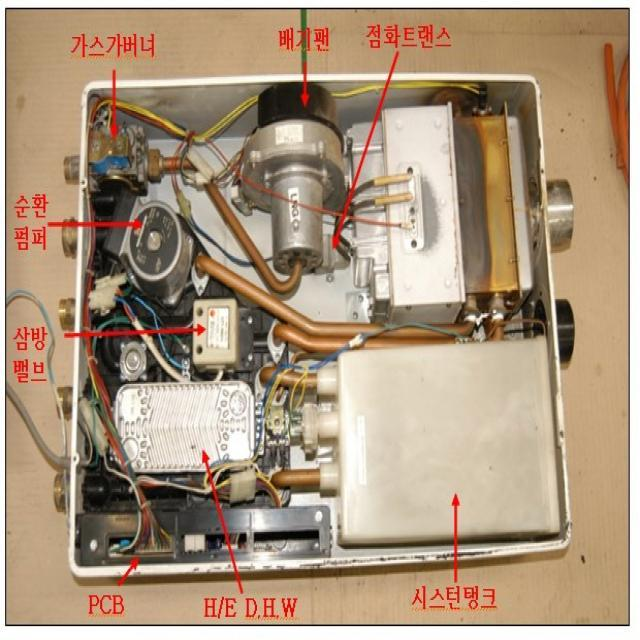Boiler: (32, 53, 604, 612)
